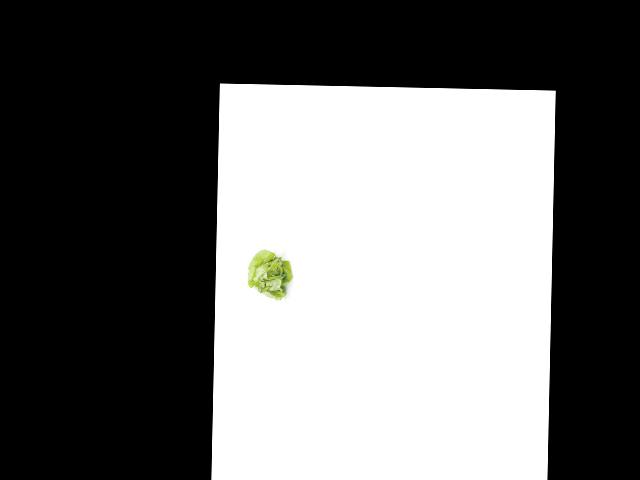lettuce: (243, 248, 295, 302)
